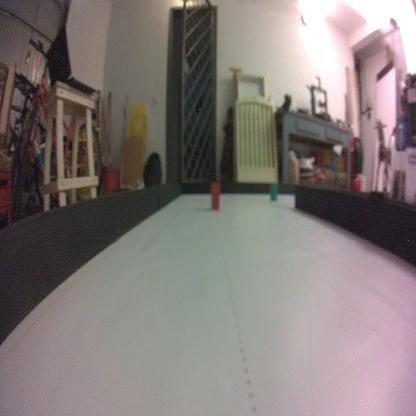green: (270, 182, 279, 203)
red: (210, 182, 221, 213)
